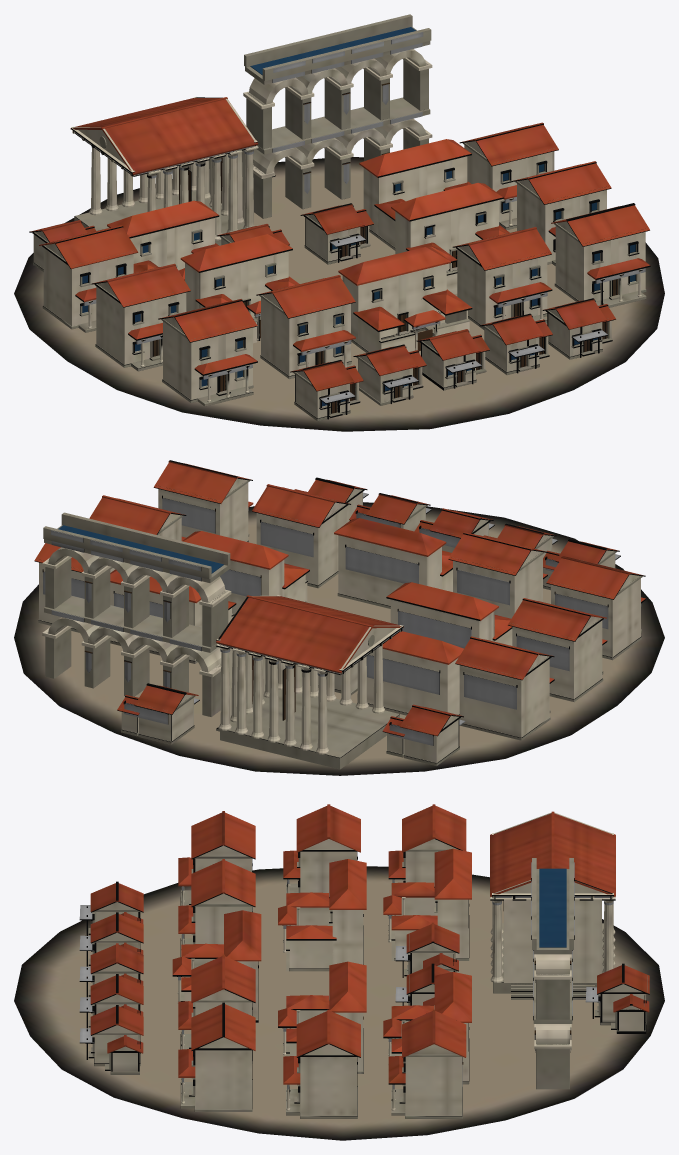
Rendered from classical-town-big-a-19998861.glb.
3 renders of one model, top to bottom at view 1: azimuth 30°, elevation 25°; view 2: azimuth 150°, elevation 25°; view 3: azimuth 270°, elevation 25°, orthographic.
Parts seen in each view (by area): view 1: LOD0; view 2: LOD0; view 3: LOD0.
Boxes of the visible parts, bbox=[...] form: LOD0: bbox=[14, 14, 664, 431]; LOD0: bbox=[14, 460, 664, 775]; LOD0: bbox=[14, 804, 664, 1140].
Size of what is drawn, in the model's own units: 8.04 by 2.05 by 8.04.
3 materials, 3 textured.
